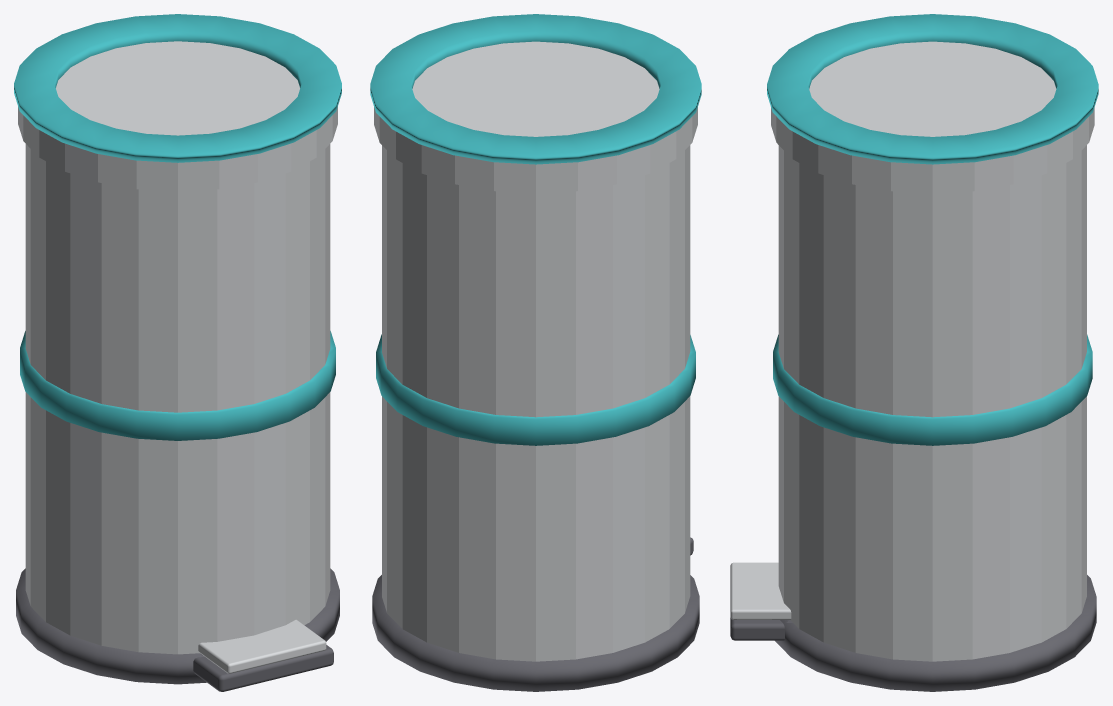
Rendered from tattoo-and-piercing-studio-pedal-waste-bin-4b2059d5__34541.glb.
The picture shows the model from 3 angles, left to right: view 1: azimuth 30°, elevation 25°; view 2: azimuth 150°, elevation 25°; view 3: azimuth 270°, elevation 25°; orthographic projection.
Parts seen in each view (by area): view 1: pedal-waste-bin, lid/steel, lid/teal; view 2: pedal-waste-bin, lid/steel, lid/teal; view 3: pedal-waste-bin, lid/steel, lid/teal.
Boxes of the visible parts, <box> form: pedal-waste-bin: <box>16,144,339,691</box>; lid/steel: <box>18,41,337,191</box>; lid/teal: <box>14,14,341,162</box>; pedal-waste-bin: <box>372,145,699,691</box>; lid/steel: <box>374,41,697,193</box>; lid/teal: <box>370,14,701,164</box>; pedal-waste-bin: <box>730,145,1096,691</box>; lid/steel: <box>771,41,1094,193</box>; lid/teal: <box>767,14,1098,164</box>.
Size of the model in its own units: 0.344 by 0.617 by 0.382.
